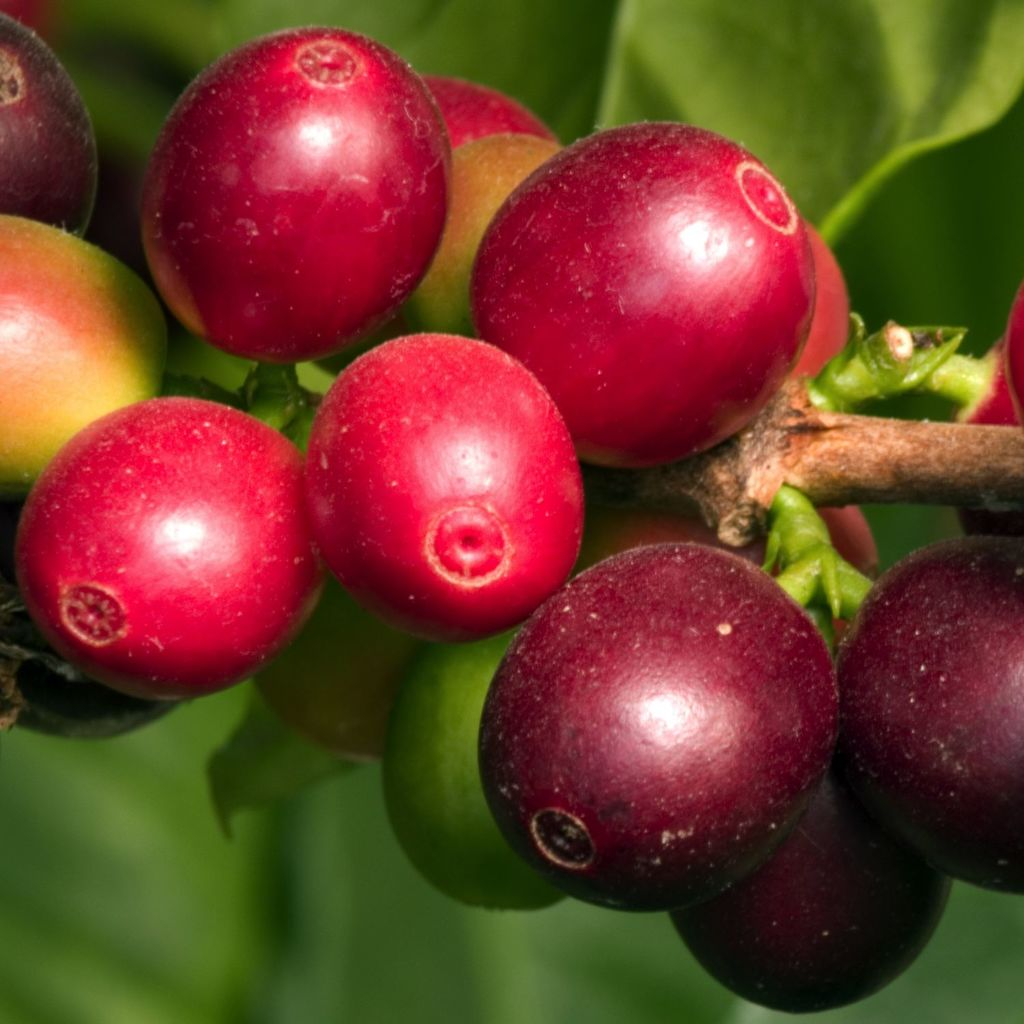Apple: (451, 115, 828, 477)
